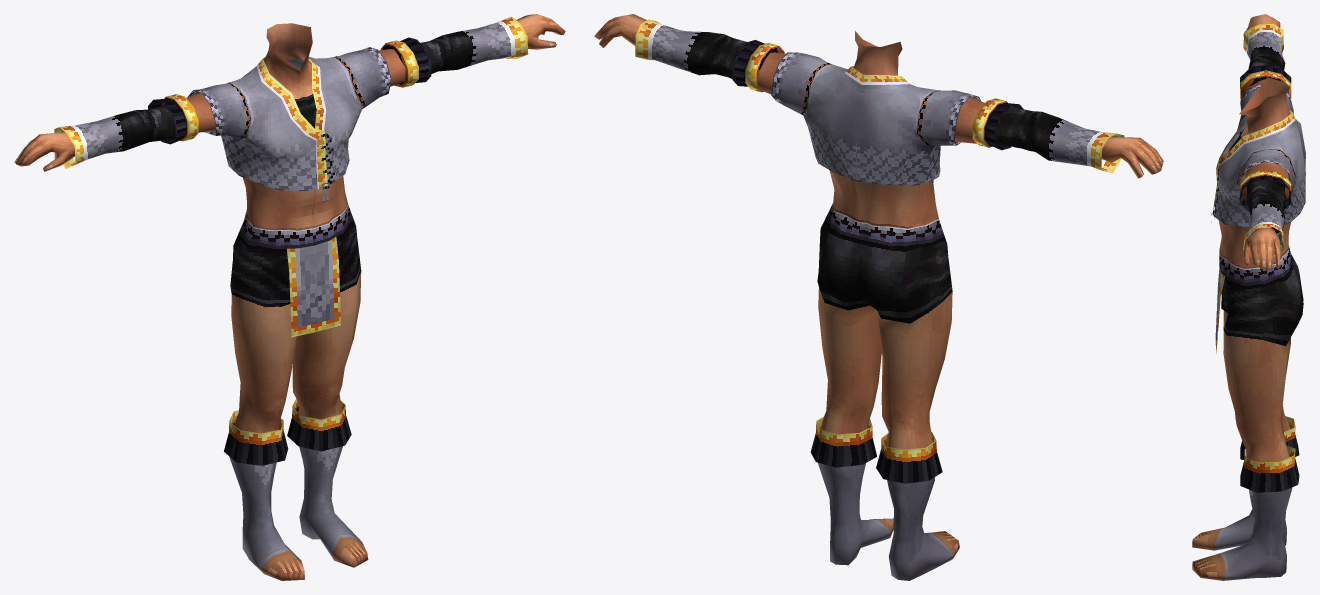
File: body_10.obj
The picture shows the model from 3 angles, left to right: view 1: azimuth 30°, elevation 25°; view 2: azimuth 150°, elevation 25°; view 3: azimuth 270°, elevation 25°; orthographic projection. The views are drawn at different scales.
Parts seen in each view (by area): view 1: editpl_m-0000-86, editpl_m-0000-85, editpl_m-0000-84; view 2: editpl_m-0000-86, editpl_m-0000-85, editpl_m-0000-84; view 3: editpl_m-0000-86, editpl_m-0000-85, editpl_m-0000-84.
Part boxes in pixels (bbox=[...]): editpl_m-0000-86: bbox=[224, 204, 368, 580]; editpl_m-0000-85: bbox=[186, 23, 405, 230]; editpl_m-0000-84: bbox=[14, 14, 565, 171]; editpl_m-0000-86: bbox=[810, 203, 959, 580]; editpl_m-0000-85: bbox=[757, 31, 984, 228]; editpl_m-0000-84: bbox=[594, 14, 1163, 178]; editpl_m-0000-86: bbox=[1192, 245, 1303, 580]; editpl_m-0000-85: bbox=[1211, 77, 1305, 268]; editpl_m-0000-84: bbox=[1240, 14, 1291, 269].
Bounding box in the file's own units: 178 × 159 × 34.72.
Materials: 3 (3 with a texture image).
